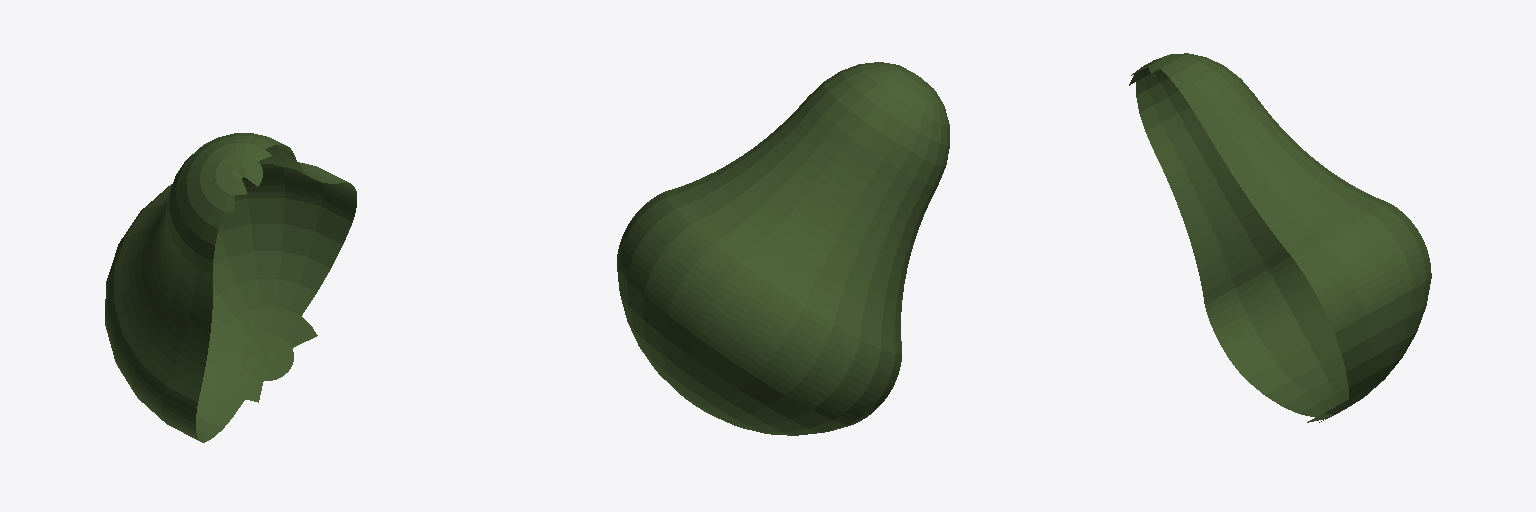
The model's file is perlado_b.obj.
3 renders of one model, left to right at view 1: azimuth 30°, elevation 25°; view 2: azimuth 150°, elevation 25°; view 3: azimuth 270°, elevation 25°, orthographic.
Visible parts, largest first — view 1: Mesh1 Model; view 2: Mesh1 Model; view 3: Mesh1 Model.
Part boxes in pixels (bbox=[...]): Mesh1 Model: bbox=[105, 133, 356, 442]; Mesh1 Model: bbox=[617, 62, 949, 435]; Mesh1 Model: bbox=[1129, 53, 1431, 422].
Bounding box in the file's own units: 51.79 × 66.06 × 54.58.